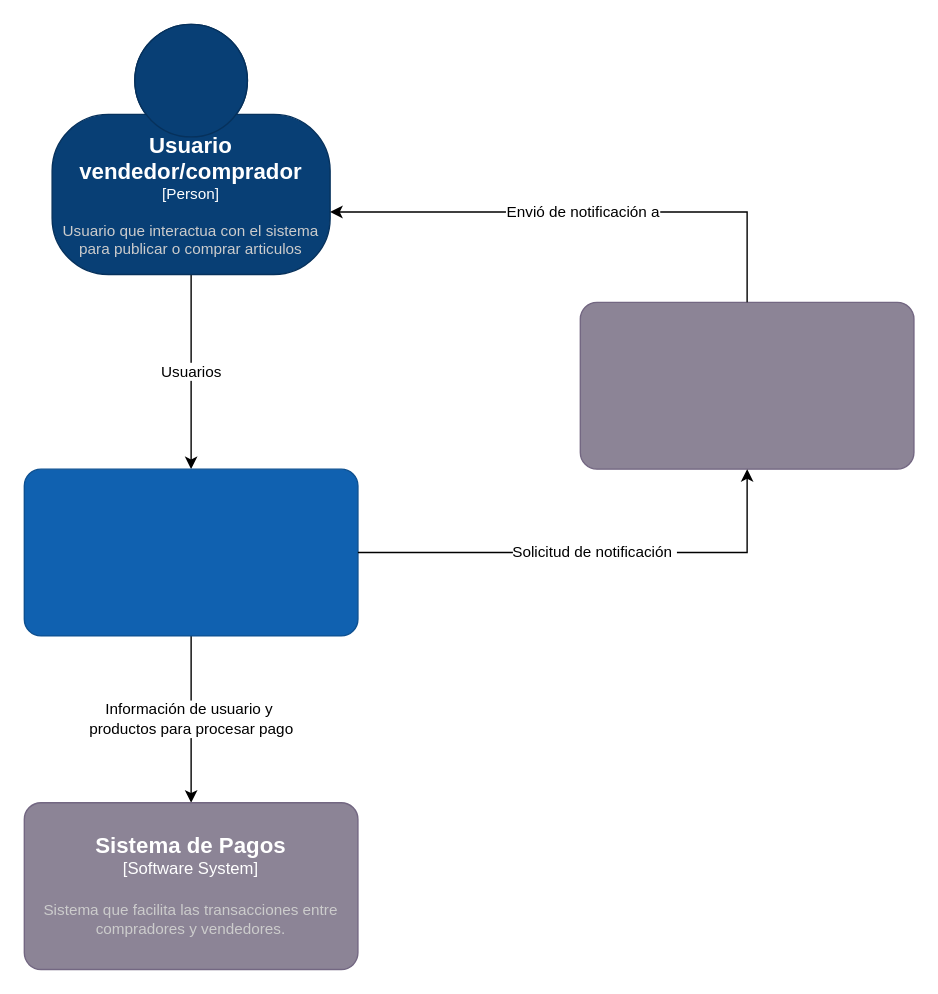
Image size: 938x994. Some labels were removed from this diagram. The shapes that lost their labels are listed below. From the top down, each one's box as (x1, y1, x2, y2) in pixels, then its label:
(579, 301, 914, 469): Notificaciones [Software System] Sistema de notificaciones
(23, 468, 358, 636): SISVENT [Software System] Sistema de venta de productos en linea
